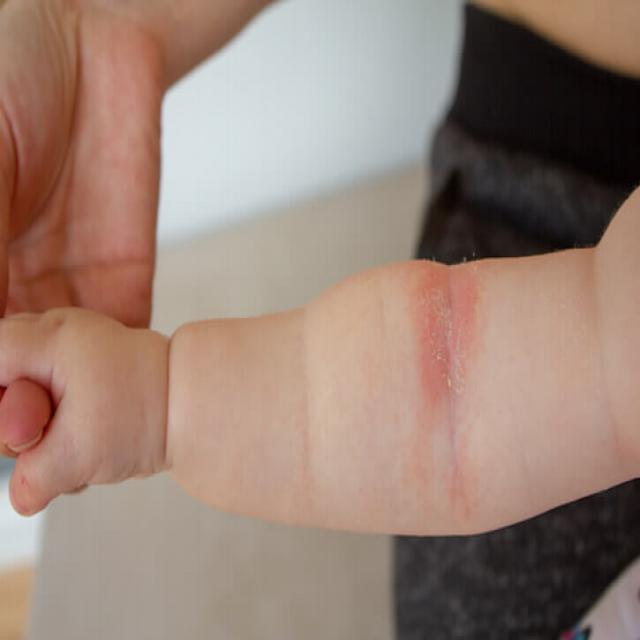eczema: (412, 252, 478, 405)
